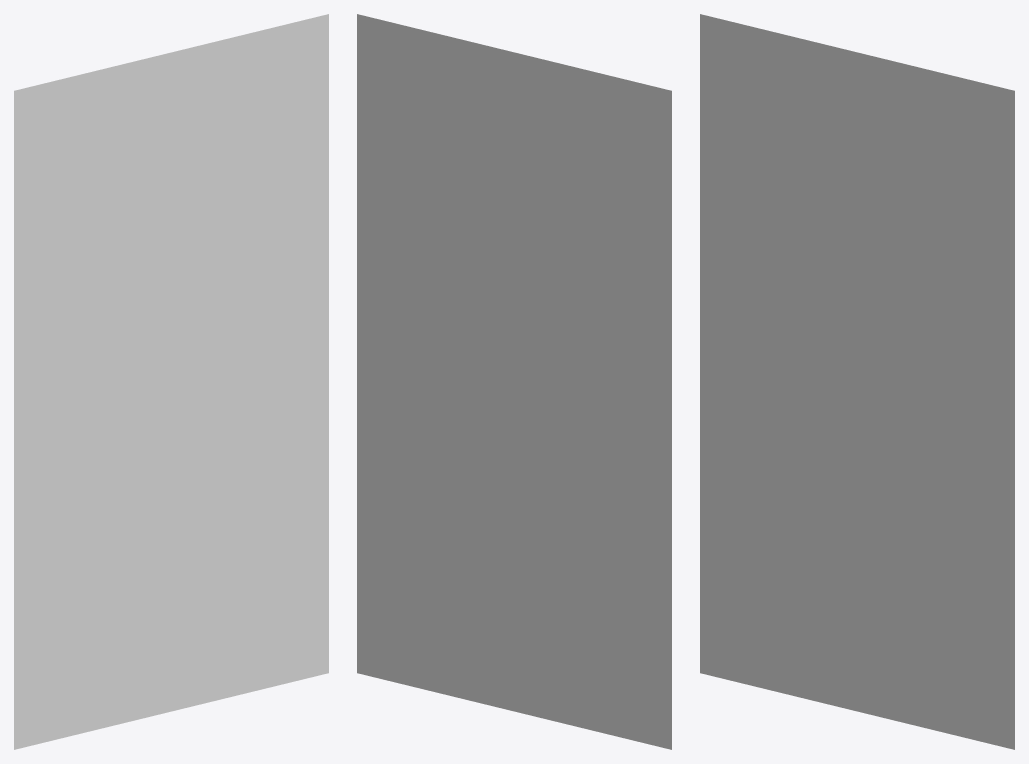
The model's file is chr153_wtf.obj.
The picture shows the model from 3 angles, left to right: view 1: azimuth 30°, elevation 25°; view 2: azimuth 150°, elevation 25°; view 3: azimuth 330°, elevation 25°; orthographic projection.
Visible parts, largest first — view 1: group1; view 2: group1; view 3: group1.
Part boxes in pixels (<box>): group1: <box>14,14,328,749</box>; group1: <box>357,14,671,749</box>; group1: <box>700,14,1014,749</box>.
Size of the model in its own units: 330 by 660 by 1.4e-05.
